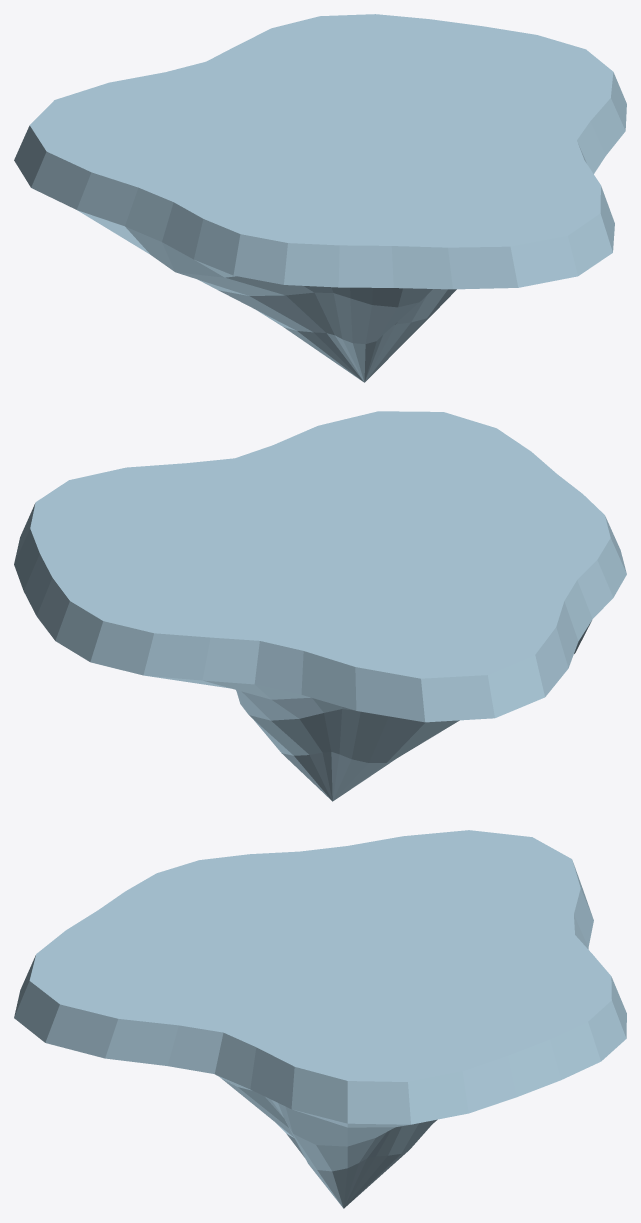
The model's file is high_gale_pinnacle_island.glb.
3 views of the same model, one above another, from view 1: azimuth 30°, elevation 25°; view 2: azimuth 150°, elevation 25°; view 3: azimuth 270°, elevation 25° (orthographic). The views are drawn at different scales.
Parts seen in each view (by area): view 1: HighGalePinnacleIsland; view 2: HighGalePinnacleIsland; view 3: HighGalePinnacleIsland.
Part boxes in pixels (x1,y1,x2,y2): HighGalePinnacleIsland: (14,14,626,382); HighGalePinnacleIsland: (14,411,626,801); HighGalePinnacleIsland: (14,830,626,1208).
Size of the model in its own units: 47.32 by 21 by 46.29.
Materials: 1 (1 with a texture image).
